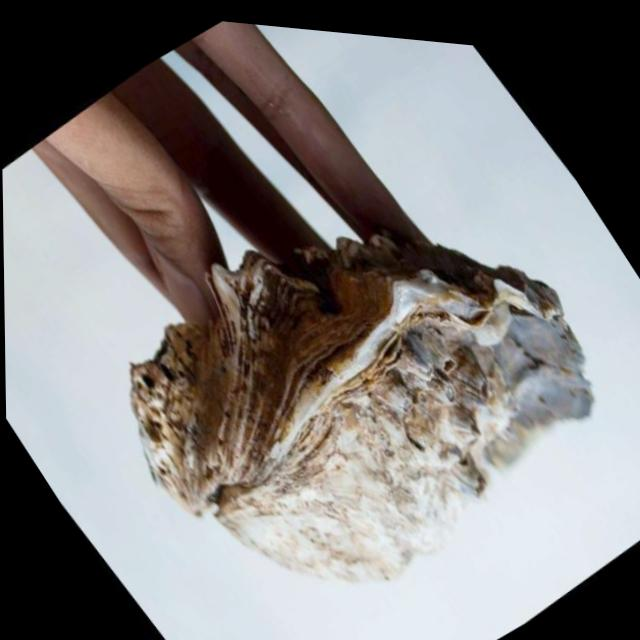Oyster-Closed: (132, 235, 592, 581)
